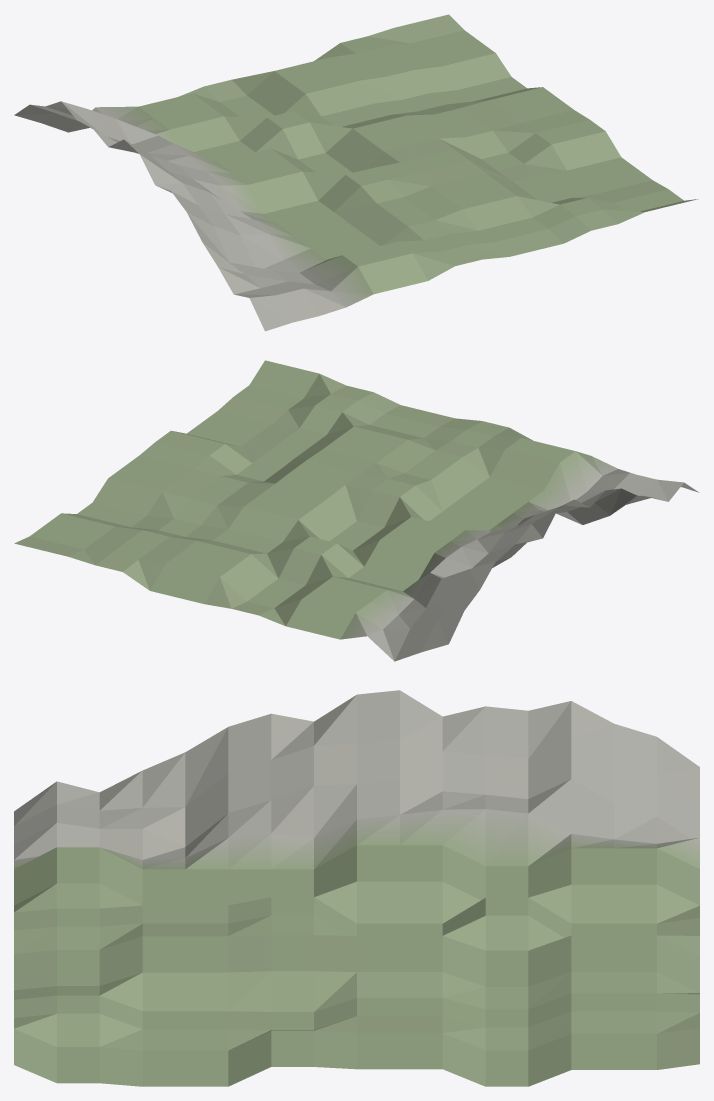
The picture shows the model from 3 angles, top to bottom: view 1: azimuth 30°, elevation 25°; view 2: azimuth 150°, elevation 25°; view 3: azimuth 270°, elevation 25°; orthographic projection. The views are drawn at different scales.
Bounding box in the file's own units: 32 × 6.24 × 32.
